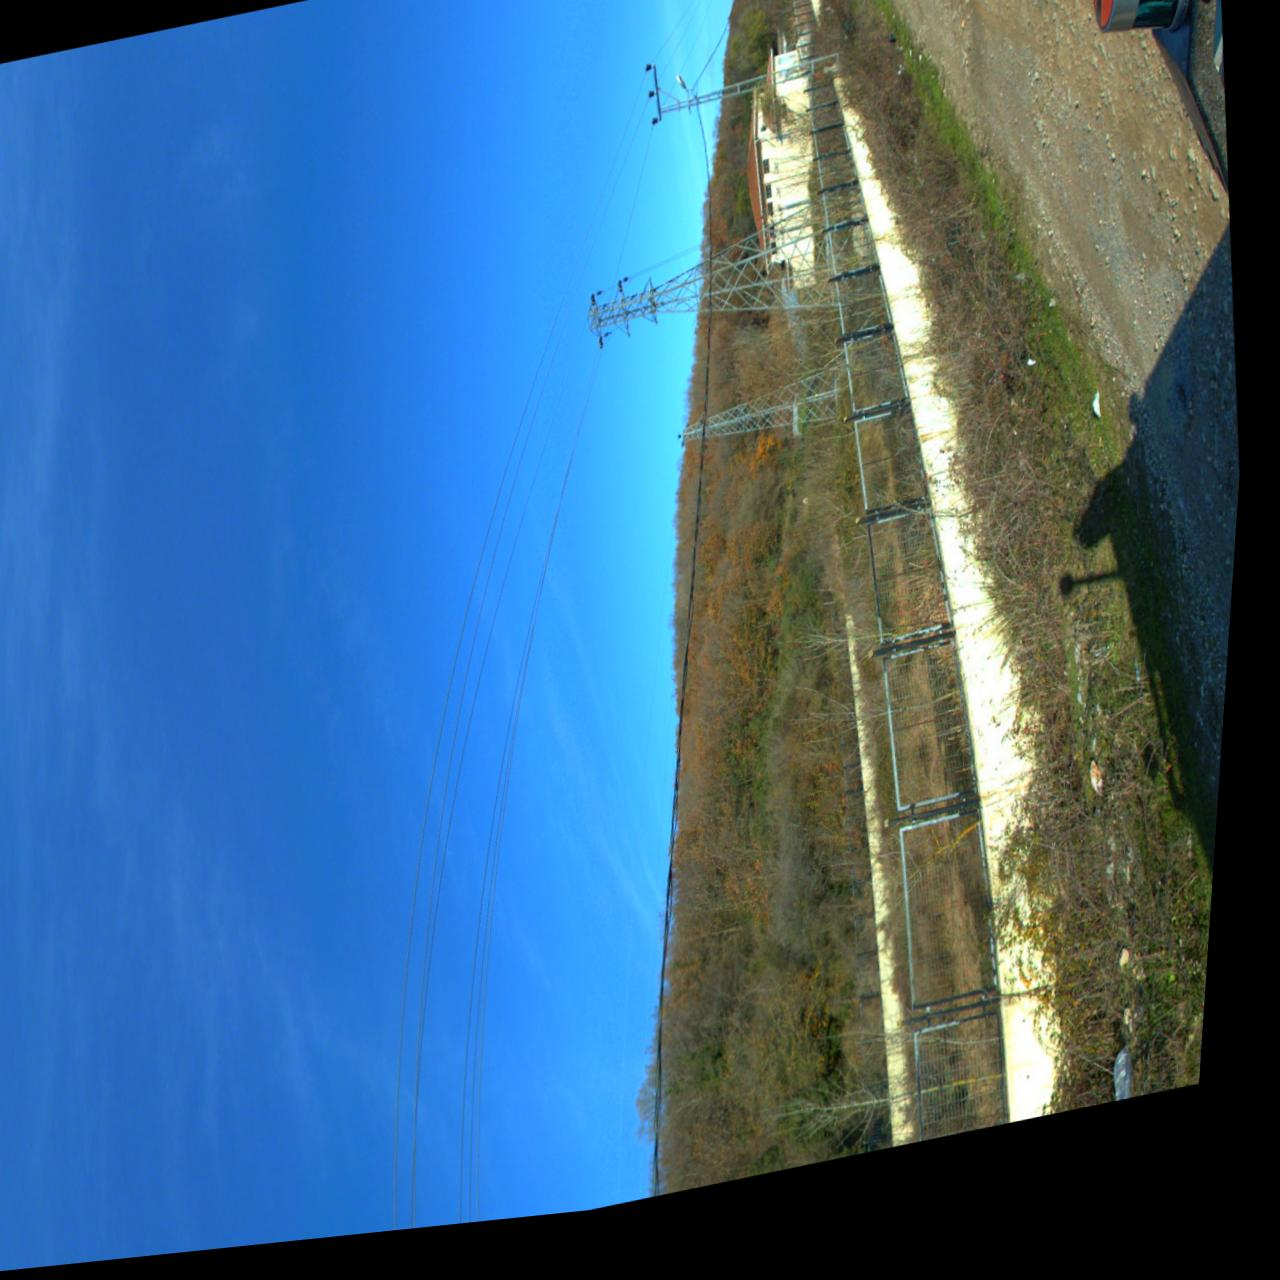Utility Pole Information Plate: (775, 87, 781, 90)
